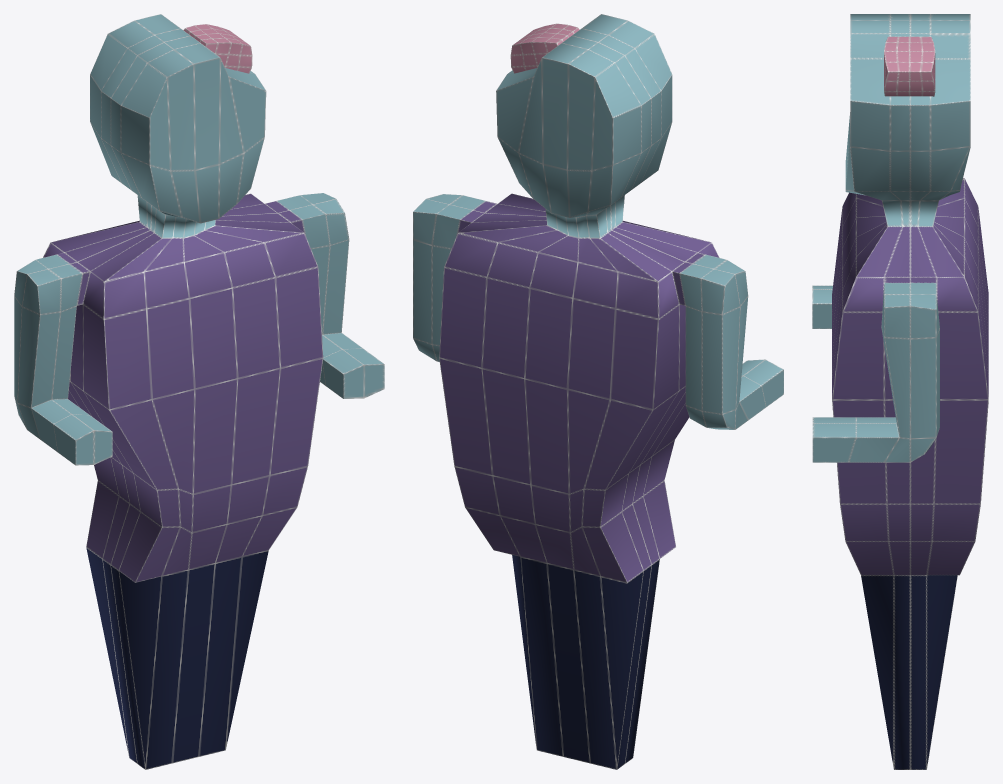
Rendered from dm_zombie.fbx.
3 views of the same model, side by side, from view 1: azimuth 30°, elevation 25°; view 2: azimuth 150°, elevation 25°; view 3: azimuth 270°, elevation 25° (orthographic).
Visible parts, largest first — view 1: PlayerModel1; view 2: PlayerModel1; view 3: PlayerModel1.
Boxes of the visible parts, x1=… form: PlayerModel1: x1=14, y1=14, x2=384, y2=769; PlayerModel1: x1=413, y1=14, x2=783, y2=769; PlayerModel1: x1=812, y1=14, x2=988, y2=769.
Bounding box in the file's own units: 83.42 × 180 × 39.78.
